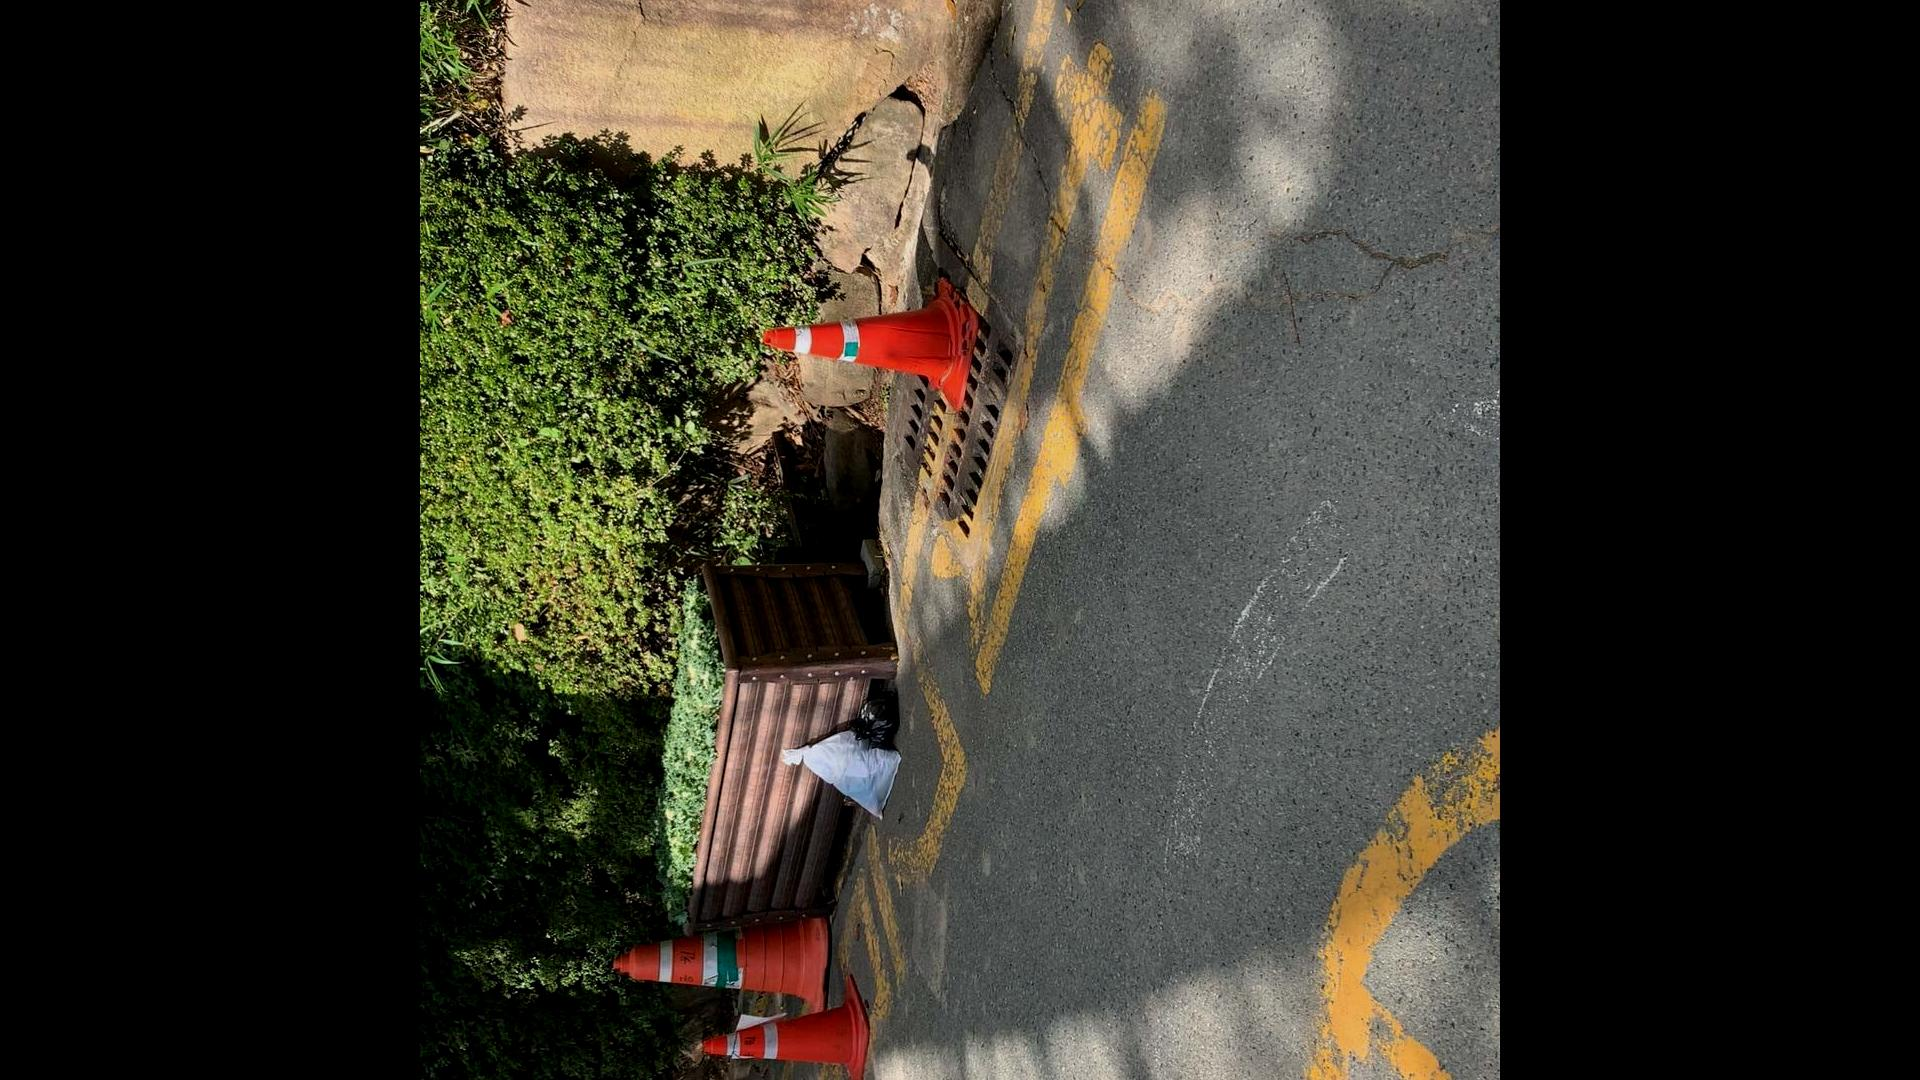black_bag: (848, 688, 903, 752)
white_bag: (774, 727, 905, 825)
